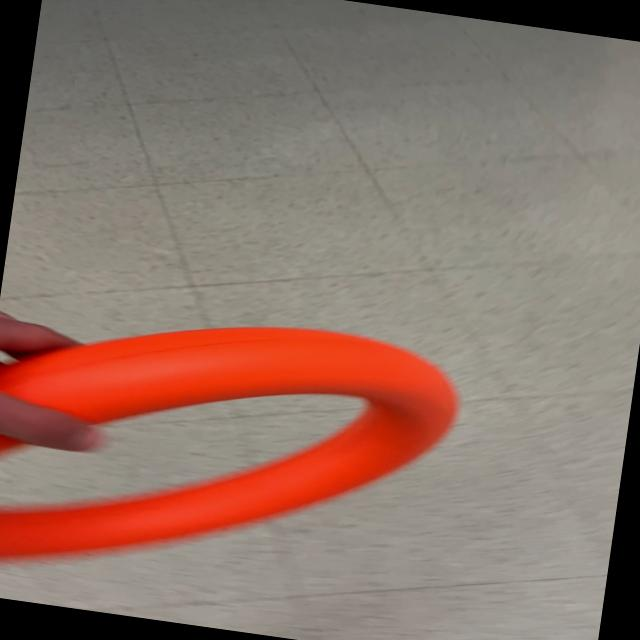note: (0, 282, 470, 625)
